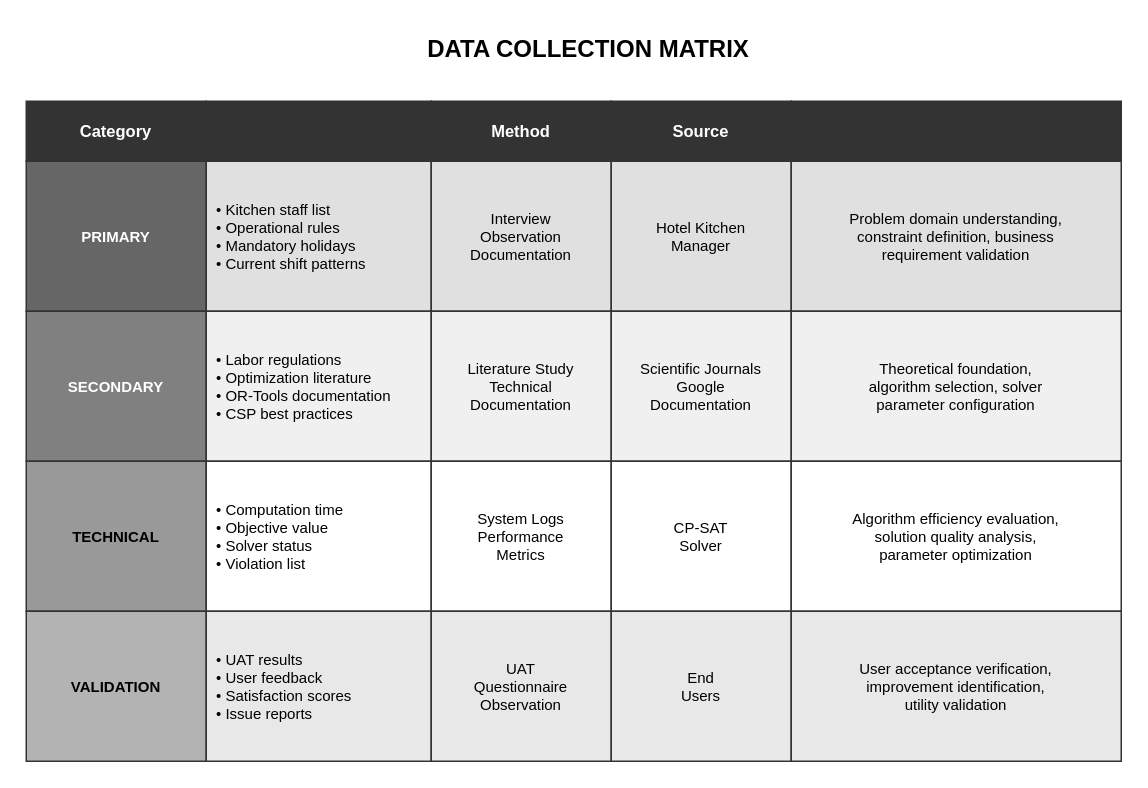
The diagram is 1148 pixels wide and 788 high, and some of its shapes have lost their labels. The shapes that lost their labels are listed below. From the top down, each one's centre as x and y in pixels, then its label:
At point 318,130: "Data Type".
At point 955,130: "Purpose".
